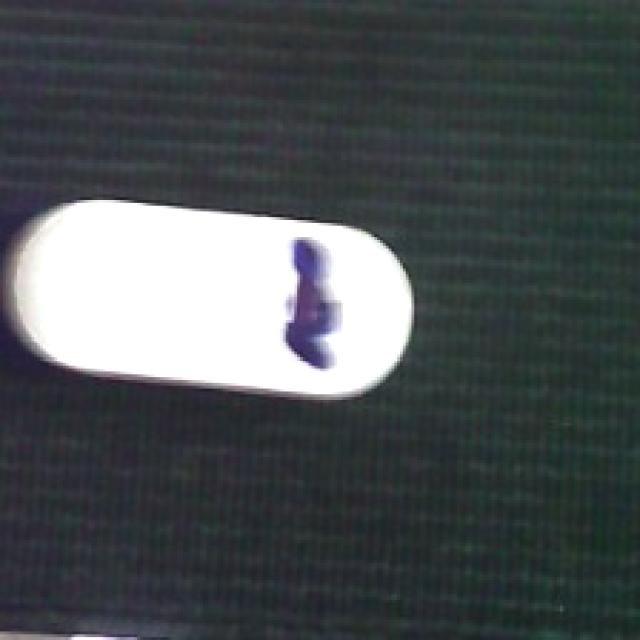defected: (3, 200, 423, 400)
